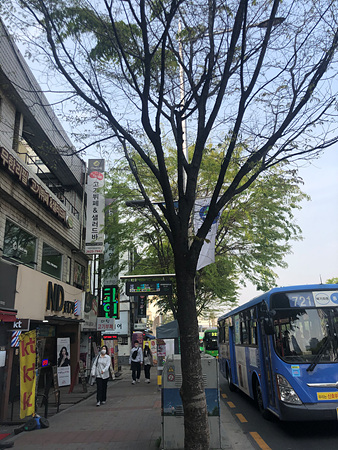bnum: (290, 294, 315, 307)
